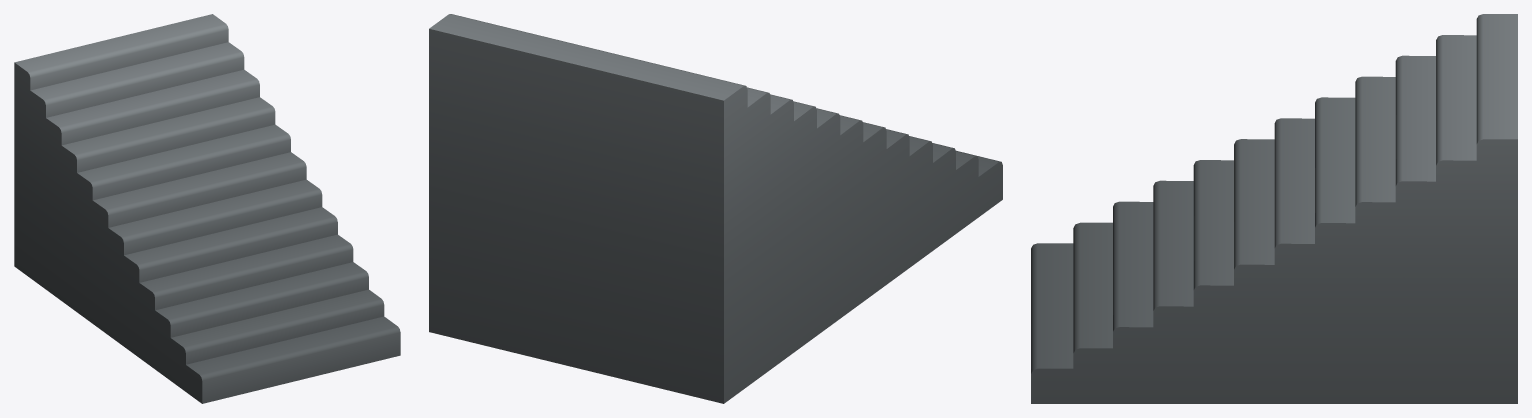
File: stairs_001.glb
3 views of the same model, side by side, from view 1: azimuth 30°, elevation 25°; view 2: azimuth 150°, elevation 25°; view 3: azimuth 270°, elevation 25° (orthographic). The views are drawn at different scales.
Parts seen in each view (by area): view 1: stairs_001; view 2: stairs_001; view 3: stairs_001.
Boxes of the visible parts, x1=… form: stairs_001: x1=14, y1=14, x2=400, y2=403; stairs_001: x1=429, y1=14, x2=1002, y2=403; stairs_001: x1=1031, y1=14, x2=1517, y2=403.
Bounding box in the file's own units: 5.09 × 5 × 8.34.
Materials: 1 (1 with a texture image).
